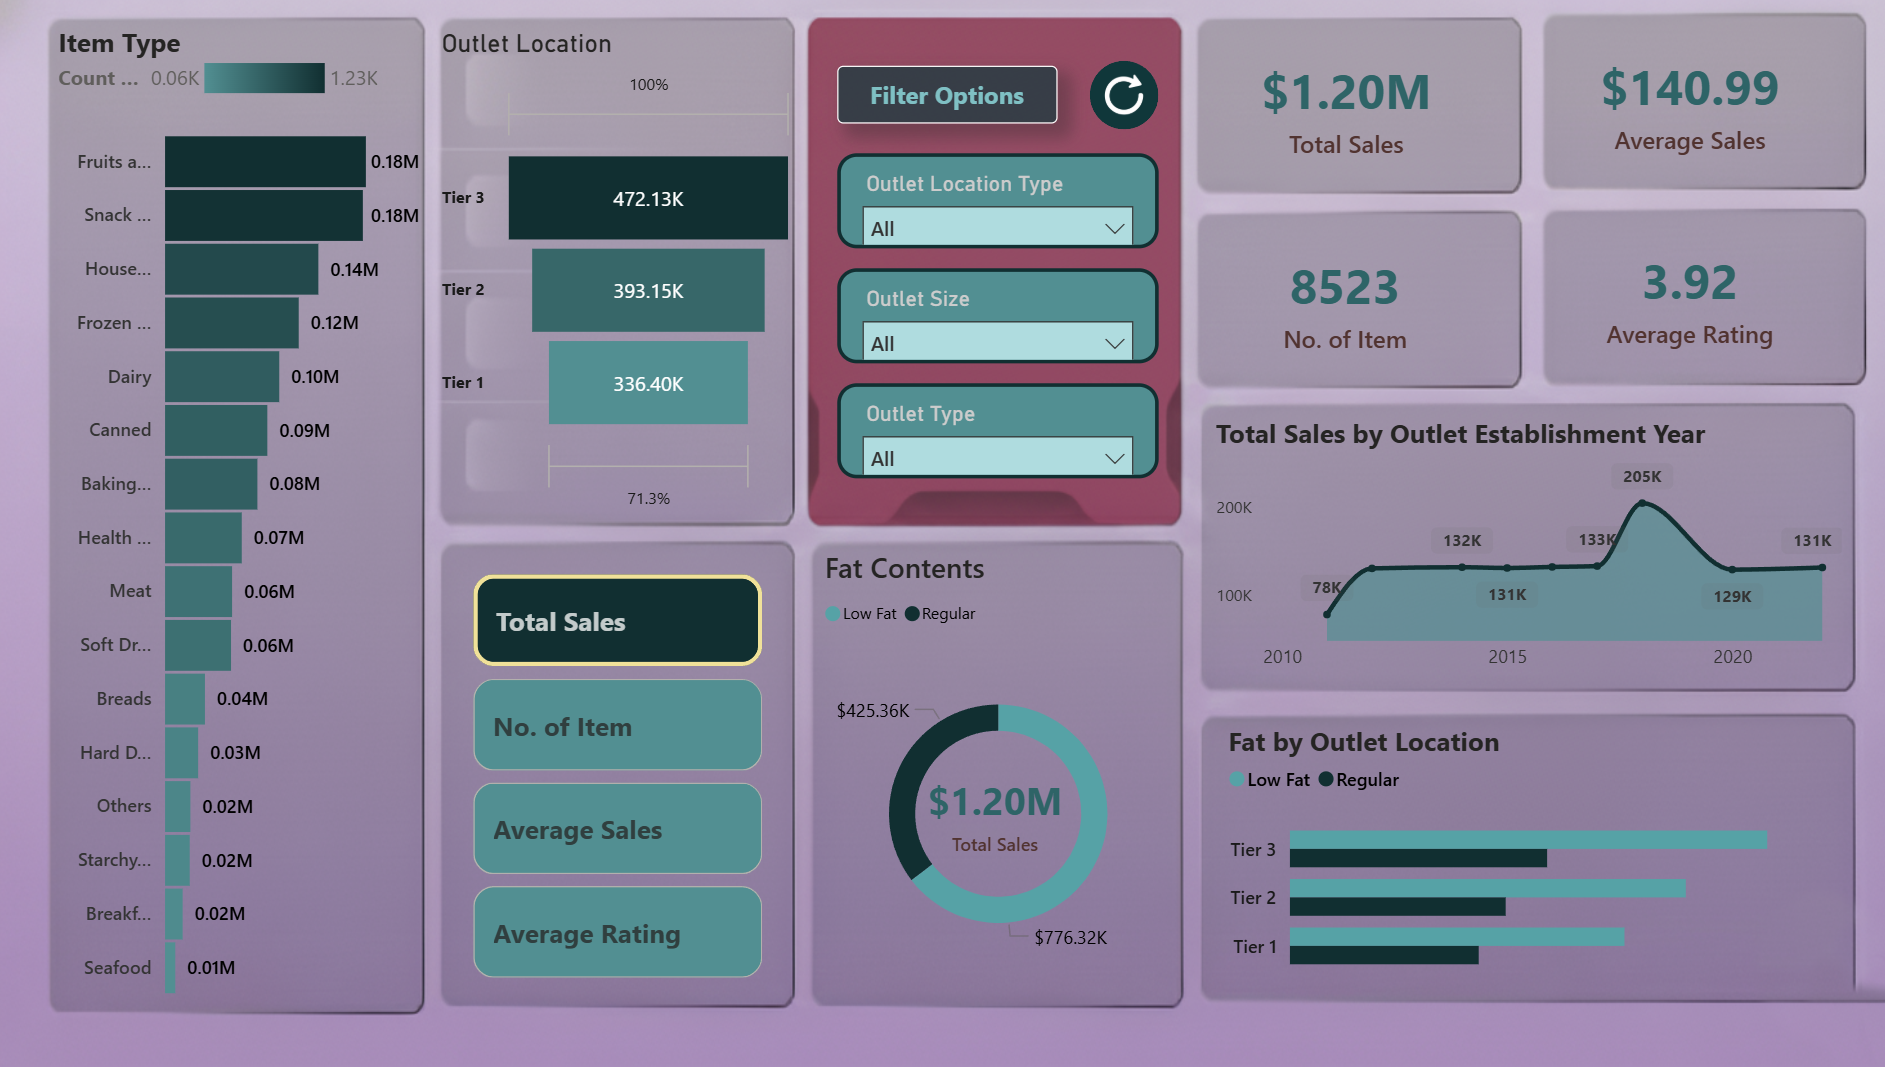

This screenshot's page, from the dashboard's own definition file:
{"tool":"powerbi","page":{"name":"Dashboard","canvas":[1280,720],"ordinal":0},"visuals":[{"type":"image","box":[10.9,0,1269.1,720.5],"z":0},{"type":"group","id":"g1","title":"Group 1","box":[805,19.3,439.4,241.7],"z":1000},{"type":"card","fields":{"Values":["_measures.Total Sales"]},"box":[805.8,21.8,210.2,109.6],"z":1000,"group":"g1"},{"type":"card","fields":{"Values":["_measures.AVG Sales"]},"box":[1034.3,19.3,210.2,109.6],"z":2000,"group":"g1"},{"type":"donutChart","title":"Fat Contents","fields":{"Y":["_measures.Total Sales"],"Category":["Grocery Data.Item Fat Content"]},"box":[559,369.6,240.9,300.7],"z":2000,"group":"g2"},{"type":"advancedSlicerVisual","fields":{"Values":["Metrics.Metrics"]},"box":[325.6,382.1,202.7,278.3],"z":2000},{"type":"card","fields":{"Values":["_measures.No. of Item"]},"box":[805,151.4,210.2,109.6],"z":3000,"group":"g1"},{"type":"clusteredBarChart","title":"Fat by Outlet Location","fields":{"Y":["_measures.Total Sales"],"Category":["Grocery Data.Outlet Location Type"],"Series":["Grocery Data.Item Fat Content"]},"box":[827.3,485.9,412.8,179.4],"z":3000},{"type":"card","fields":{"Values":["_measures.Total Sales"]},"box":[621.3,510,112.1,73.1],"z":3000,"group":"g2"},{"type":"card","fields":{"Values":["_measures.AVG Rating"]},"box":[1034.3,148,210.2,109.6],"z":4000,"group":"g1"},{"type":"group","id":"g2","title":"Group 2","box":[559,369.6,240.9,300.7],"z":4000},{"type":"barChart","title":"Item Type","fields":{"Y":["_measures.Total Sales"],"Category":["Grocery Data.Item Type"]},"box":[49.8,21.6,250,662.9],"z":5000},{"type":"lineChart","fields":{"Y":["_measures.Total Sales"],"Category":["Grocery Data.Outlet Establishment Year"]},"box":[819,281.6,426.1,178.6],"z":6000},{"type":"funnel","title":"Outlet Location","fields":{"Y":["Sum(Grocery Data.Sales)"],"Category":["Grocery Data.Outlet Location Type"]},"box":[306.5,21.6,240.9,331.4],"z":7000},{"type":"slicer","fields":{"Values":["Grocery Data.Outlet Location Type"]},"box":[572.7,107.2,213.5,63.1],"z":8000},{"type":"textbox","box":[572.3,49,146.2,38.2],"z":9000},{"type":"slicer","fields":{"Values":["Grocery Data.Outlet Size"]},"box":[572.7,183.6,213.5,63.1],"z":10000},{"type":"slicer","fields":{"Values":["Grocery Data.Outlet Type"]},"box":[572.7,260,213.5,63.1],"z":11000},{"type":"shape","box":[740.1,45.7,45.7,45.7],"z":12000},{"type":"image","box":[727.6,41.5,70.6,54.8],"z":12001}]}

Visuals, with their boxes in screenshot pixels (x1, y1, x2, y2), scaled from the page's 1280x720 canvas onto the 1885x1067 screenshot:
image: select_region(16, 0, 1884, 1066)
"Group 1" group: select_region(1185, 29, 1833, 387)
card - _measures.Total Sales: select_region(1187, 32, 1496, 195)
card - _measures.AVG Sales: select_region(1523, 29, 1833, 191)
"Fat Contents" donutChart: select_region(823, 548, 1178, 993)
advancedSlicerVisual - Metrics.Metrics: select_region(479, 566, 778, 979)
card - _measures.No. of Item: select_region(1185, 224, 1495, 387)
"Fat by Outlet Location" clusteredBarChart: select_region(1218, 720, 1826, 986)
card - _measures.Total Sales: select_region(915, 756, 1080, 864)
card - _measures.AVG Rating: select_region(1523, 219, 1833, 382)
"Group 2" group: select_region(823, 548, 1178, 993)
"Item Type" barChart: select_region(73, 32, 442, 1014)
lineChart - _measures.Total Sales x Grocery Data.Outlet Establishment Year: select_region(1206, 417, 1834, 682)
"Outlet Location" funnel: select_region(451, 32, 806, 523)
slicer - Grocery Data.Outlet Location Type: select_region(843, 159, 1158, 252)
textbox: select_region(843, 73, 1058, 129)
slicer - Grocery Data.Outlet Size: select_region(843, 272, 1158, 366)
slicer - Grocery Data.Outlet Type: select_region(843, 385, 1158, 479)
shape: select_region(1090, 68, 1157, 135)
image: select_region(1072, 62, 1175, 143)
